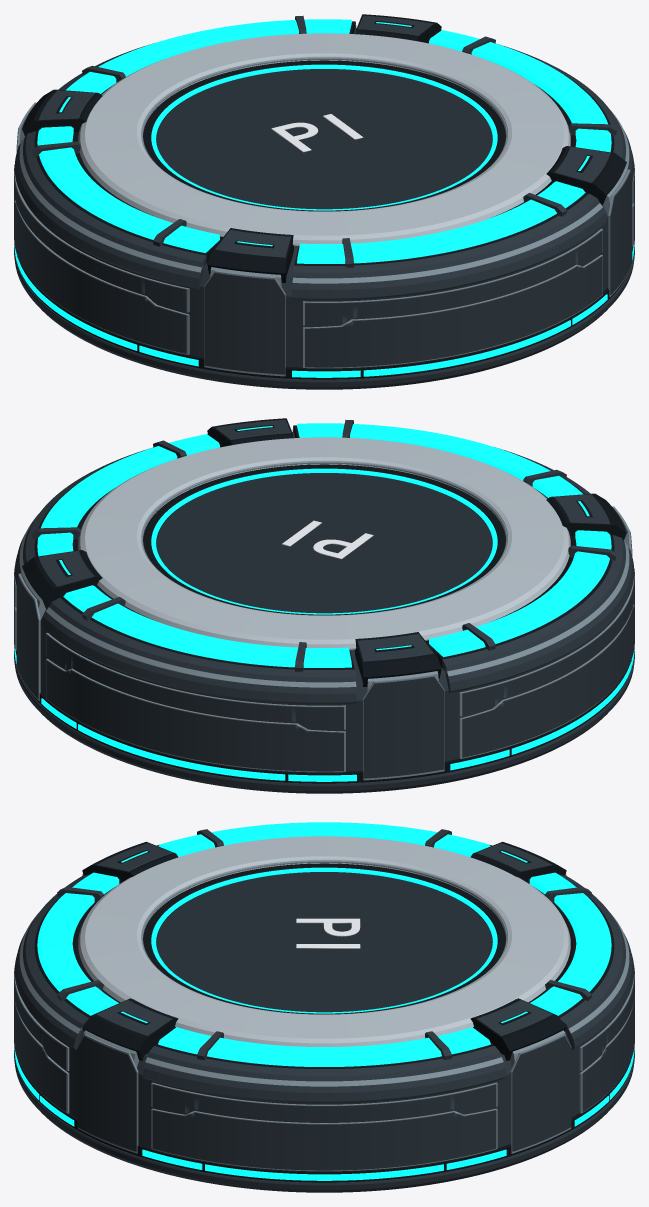
Rendered from Grippy.fbx.
3 renders of one model, top to bottom at view 1: azimuth 30°, elevation 25°; view 2: azimuth 150°, elevation 25°; view 3: azimuth 270°, elevation 25°, orthographic.
Parts seen in each view (by area): view 1: SM_Puck_Grippy_P1_HighDetail; view 2: SM_Puck_Grippy_P1_HighDetail; view 3: SM_Puck_Grippy_P1_HighDetail.
Boxes of the visible parts, x1=… form: SM_Puck_Grippy_P1_HighDetail: x1=14, y1=14, x2=634, y2=389; SM_Puck_Grippy_P1_HighDetail: x1=14, y1=418, x2=634, y2=793; SM_Puck_Grippy_P1_HighDetail: x1=14, y1=822, x2=634, y2=1192.
Bounding box in the file's own units: 90.3 × 90.3 × 20.9.
